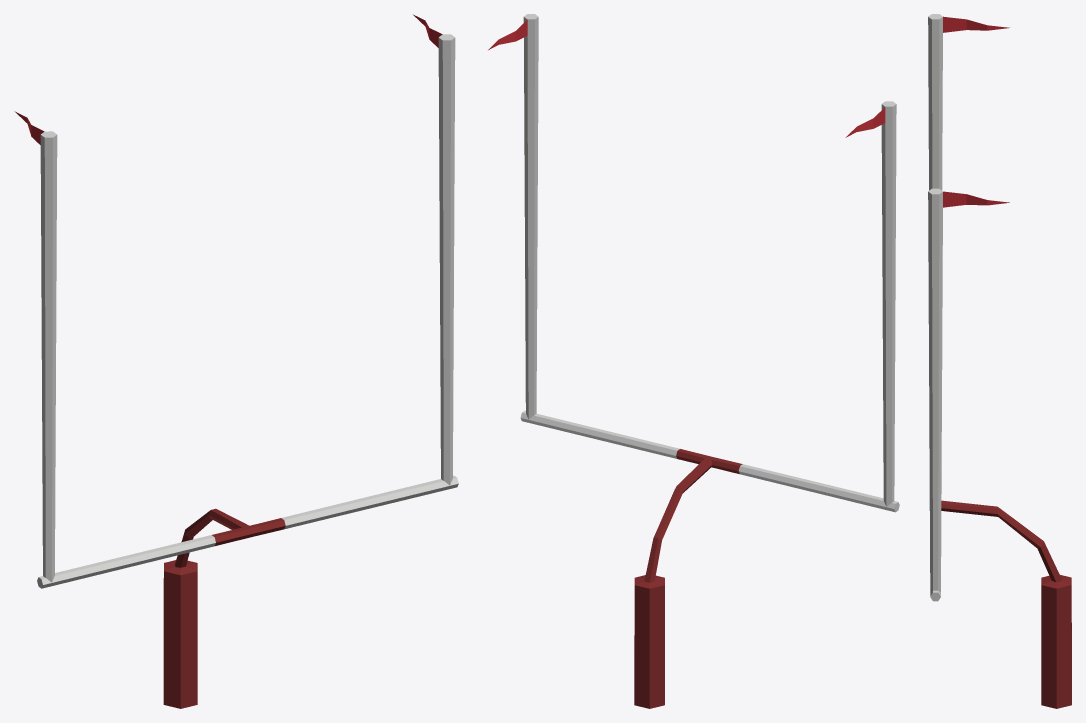
Rendered from sport_american-football-gate.fbx.
The picture shows the model from 3 angles, left to right: view 1: azimuth 30°, elevation 25°; view 2: azimuth 150°, elevation 25°; view 3: azimuth 270°, elevation 25°; orthographic projection. The views are drawn at different scales.
Parts seen in each view (by area): view 1: sport_american_football_gate; view 2: sport_american_football_gate; view 3: sport_american_football_gate.
Part boxes in pixels (left/top/right/bottom): sport_american_football_gate: left=14, top=14, right=458, bottom=708; sport_american_football_gate: left=488, top=14, right=899, bottom=708; sport_american_football_gate: left=928, top=14, right=1071, bottom=708.
Bounding box in the file's own units: 131 × 200 × 43.61.
